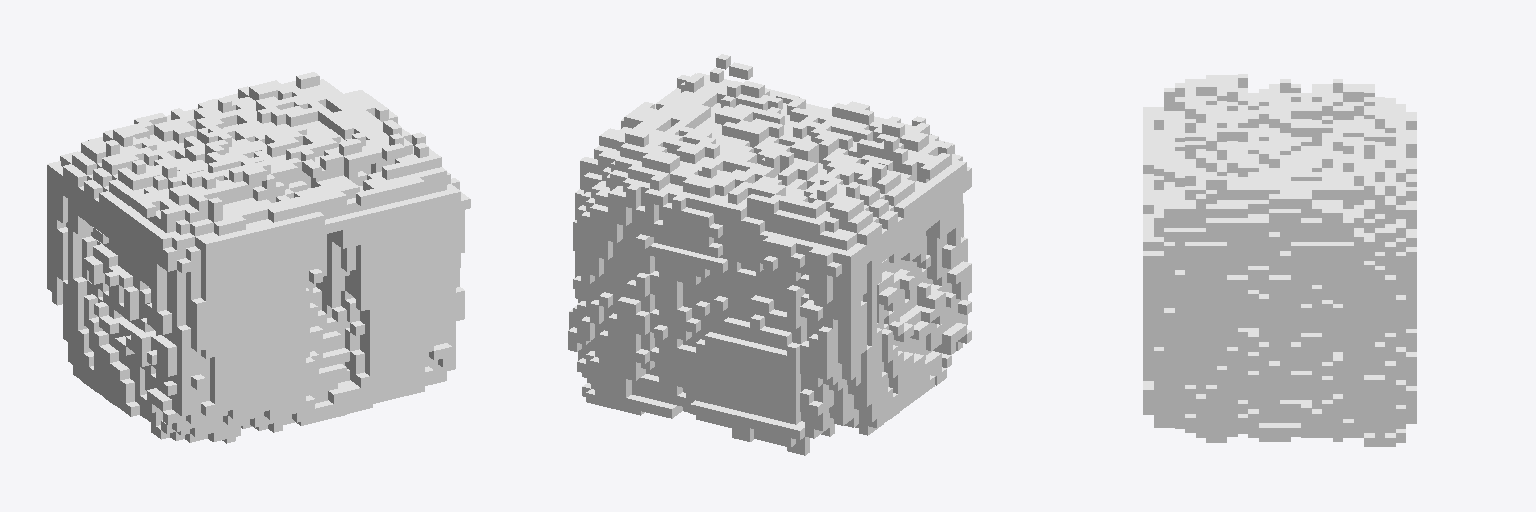
Rendered from コイン.obj.
The picture shows the model from 3 angles: view 1: azimuth 30°, elevation 25°; view 2: azimuth 150°, elevation 25°; view 3: azimuth 270°, elevation 25°; orthographic projection.
Visible parts, largest first — view 1: object 1; view 2: object 1; view 3: object 1.
Boxes of the visible parts, x1,y1,x2,y2 form: object 1: [47, 72, 470, 443]; object 1: [568, 54, 971, 455]; object 1: [1143, 74, 1416, 446].
Bounding box in the file's own units: 3.2 × 2.7 × 2.6.